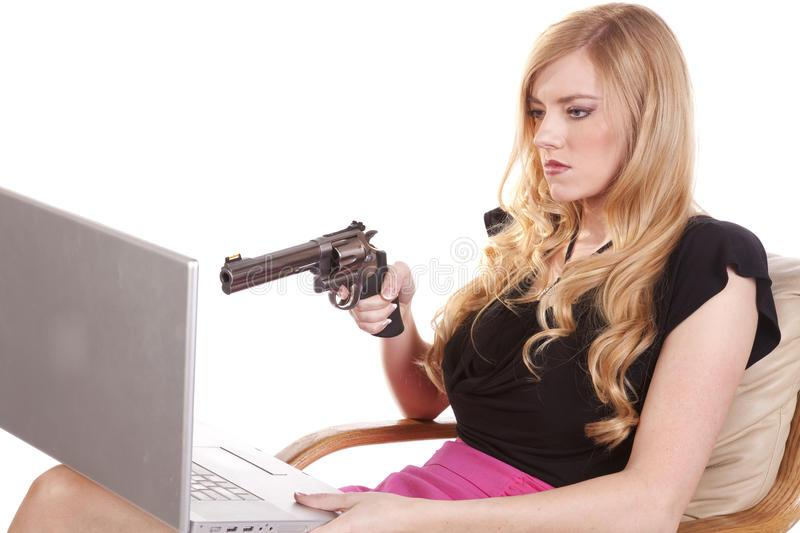criminal: (215, 2, 784, 533)
weapon: (216, 214, 410, 341)
